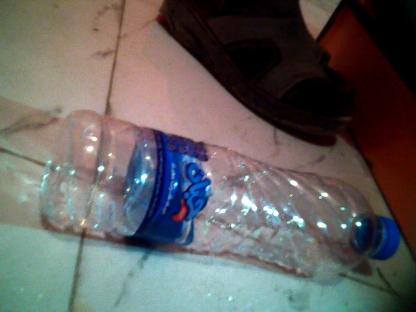Plastic Bottle: (44, 101, 404, 287)
